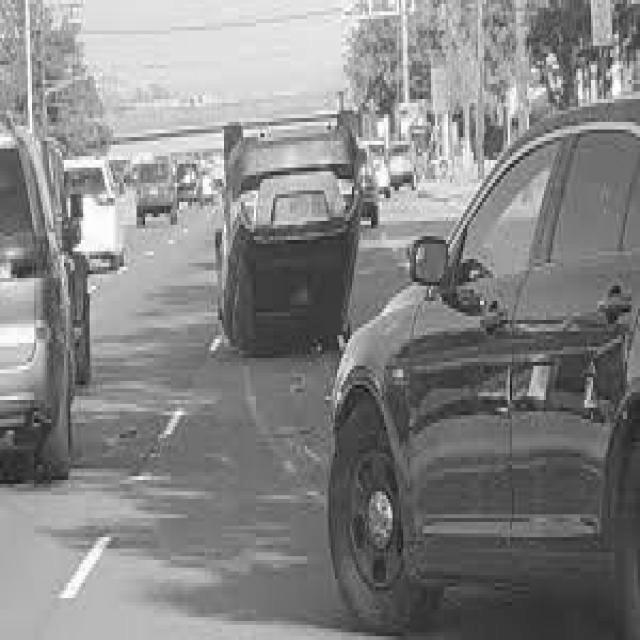accident: (211, 105, 365, 364)
vehicle: (331, 98, 640, 640), (1, 105, 95, 491), (65, 147, 131, 277), (135, 161, 179, 229), (357, 139, 381, 230), (387, 136, 419, 192), (368, 139, 390, 200), (178, 160, 203, 208)
